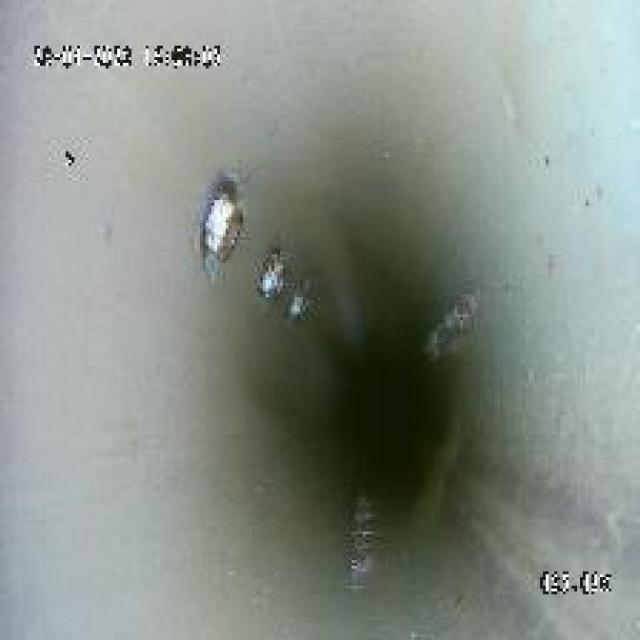ferrule: (191, 174, 243, 257), (257, 249, 280, 294), (288, 283, 308, 314)
